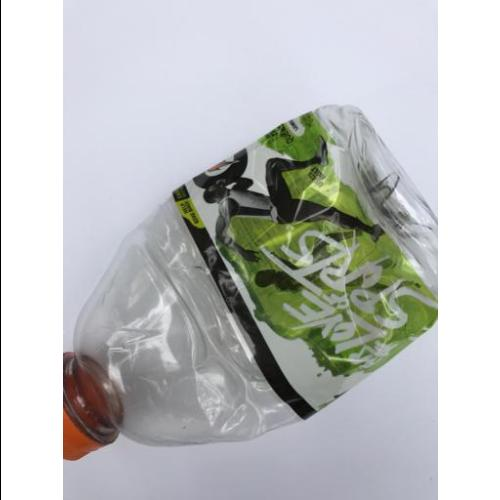plastic: (63, 106, 439, 462)
